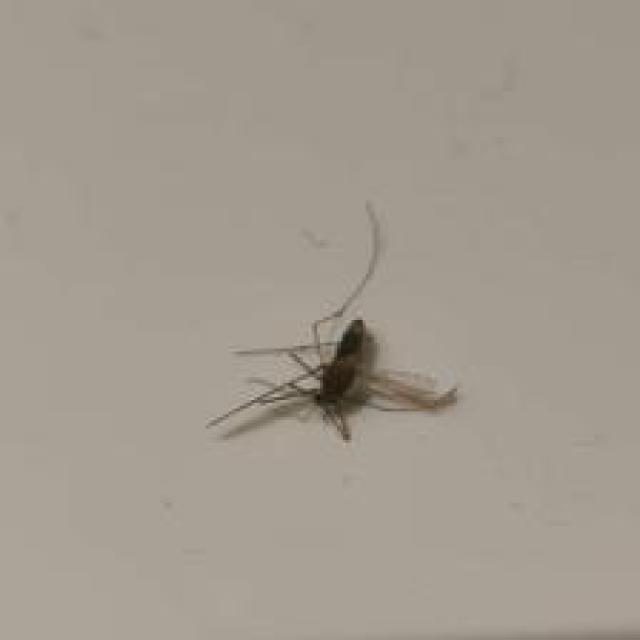Culex: (204, 199, 459, 444)
